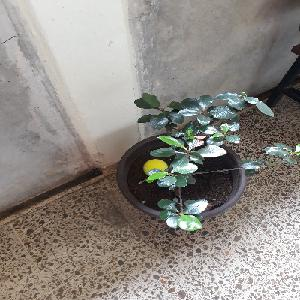Ball: (143, 159, 167, 173)
